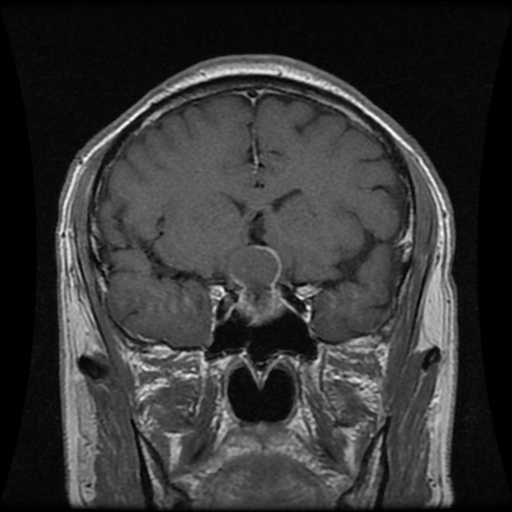pituitary: (221, 244, 285, 325)
